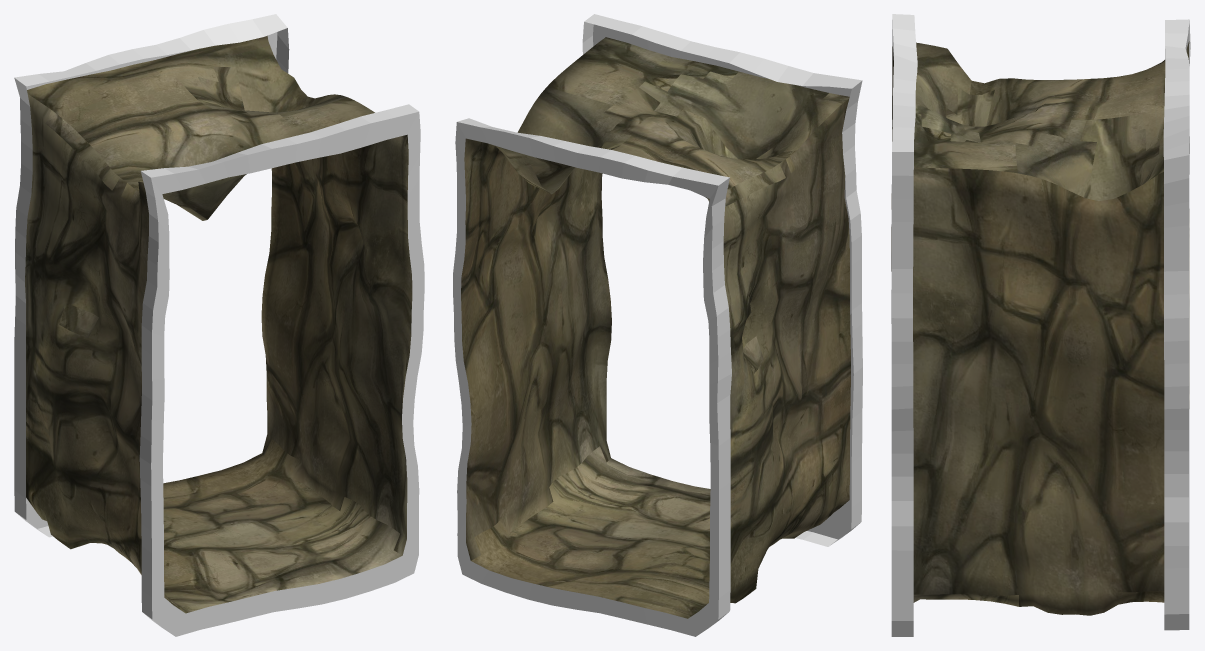
Rendered from cave module 5.fbx.
3 views of the same model, side by side, from view 1: azimuth 30°, elevation 25°; view 2: azimuth 150°, elevation 25°; view 3: azimuth 270°, elevation 25° (orthographic). The views are drawn at different scales.
Parts seen in each view (by area): view 1: Plane.5; view 2: Plane.5; view 3: Plane.5.
Part boxes in pixels (left/top/right/bottom): Plane.5: left=14, top=14, right=424, bottom=636; Plane.5: left=453, top=14, right=862, bottom=636; Plane.5: left=891, top=14, right=1190, bottom=636.
Size of the model in its own units: 680 by 1108 by 604.
